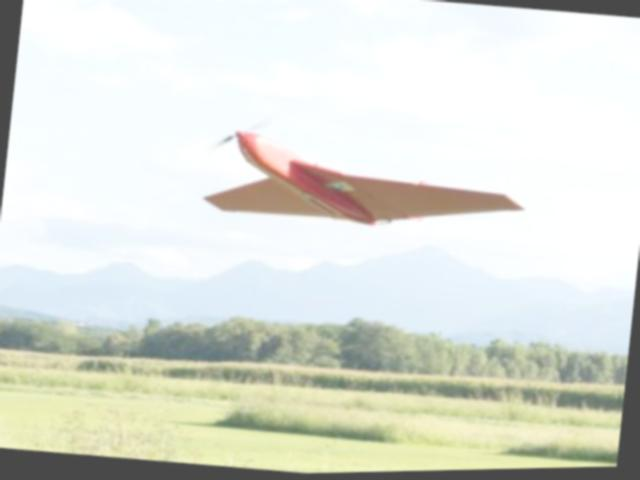uav: (201, 117, 534, 249)
